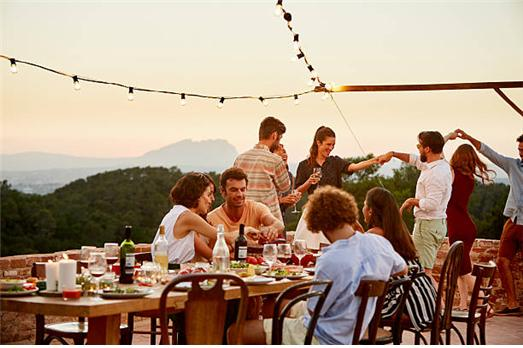alcohol: (118, 224, 138, 283), (212, 222, 232, 274), (152, 224, 169, 280), (87, 252, 109, 294), (232, 224, 249, 268), (105, 243, 121, 281), (79, 244, 97, 277), (277, 243, 293, 280), (263, 245, 279, 280), (293, 239, 308, 274), (137, 264, 157, 288), (290, 189, 302, 214), (312, 167, 324, 190)
